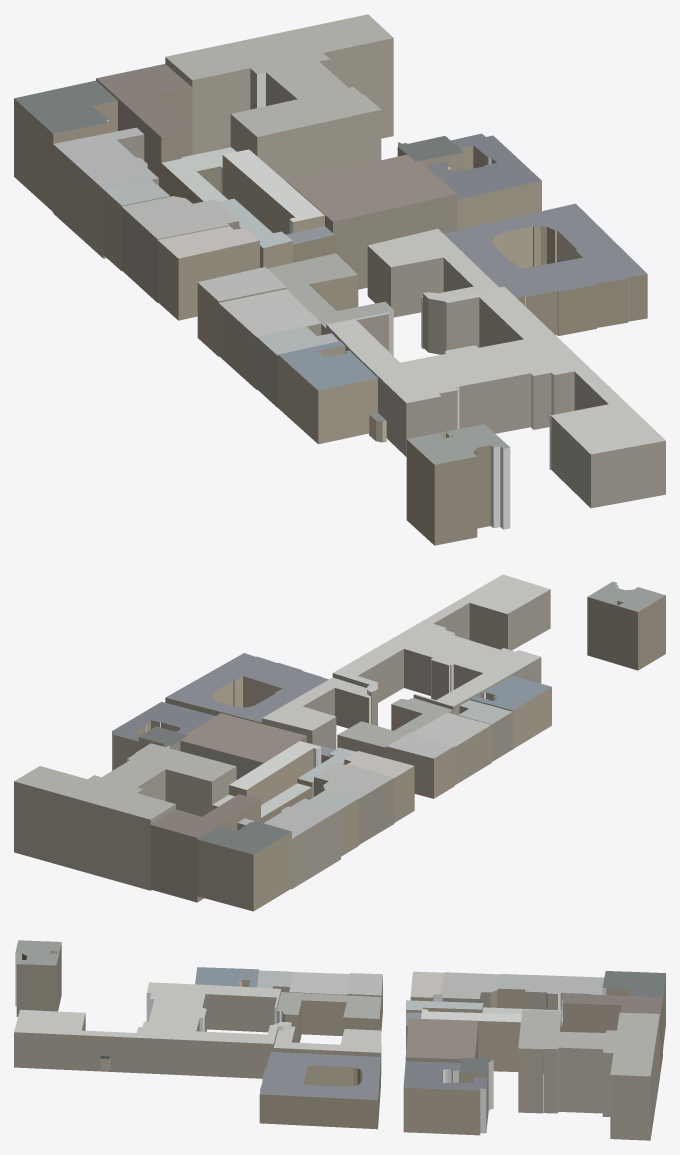
The picture shows the model from 3 angles, top to bottom: view 1: azimuth 30°, elevation 25°; view 2: azimuth 150°, elevation 25°; view 3: azimuth 270°, elevation 25°; orthographic projection. The views are drawn at different scales.
Parts seen in each view (by area): view 1: tuile; view 2: tuile; view 3: tuile.
Part boxes in pixels (x1,y1,x2,y2): tuile: [14, 14, 665, 545]; tuile: [14, 574, 665, 911]; tuile: [14, 940, 665, 1140].
Bounding box in the file's own units: 120 × 28.29 × 248.
